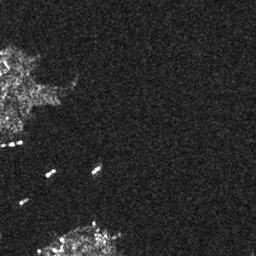ship: (44, 168, 57, 179), (91, 165, 102, 176)
